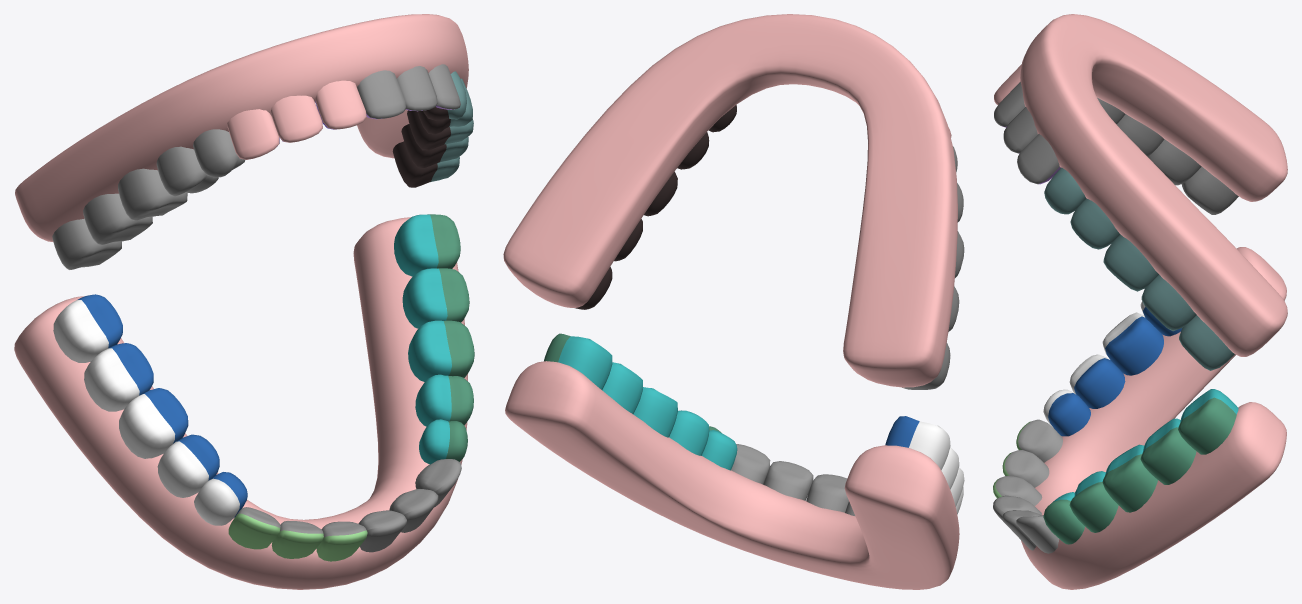
File: yaya.dae
The picture shows the model from 3 angles, left to right: view 1: azimuth 30°, elevation 25°; view 2: azimuth 150°, elevation 25°; view 3: azimuth 270°, elevation 25°; orthographic projection. The views are drawn at different scales.
Parts seen in each view (by area): view 1: FBXASC0497, FBXASC0488, FBXASC0496, FBXASC0485, FBXASC0482, FBXASC0490, FBXASC0487, FBXASC0495, FBXASC0481, FBXASC0493, FBXASC0486, FBXASC0494 (+3 smaller); view 2: FBXASC0497, FBXASC0485, FBXASC0486, FBXASC0493, FBXASC0488, FBXASC0496, FBXASC0487; view 3: FBXASC0497, FBXASC0490, FBXASC0494, FBXASC0487, FBXASC0491, FBXASC0483, FBXASC0495, FBXASC0485, FBXASC0489, FBXASC0488, FBXASC0486, FBXASC0482.
Boxes of the visible parts, left/top/right/bottom form: FBXASC0497: left=14, top=14, right=468, bottom=589; FBXASC0488: left=53, top=300, right=239, bottom=525; FBXASC0496: left=52, top=129, right=238, bottom=269; FBXASC0485: left=394, top=214, right=451, bottom=464; FBXASC0482: left=227, top=80, right=366, bottom=159; FBXASC0490: left=427, top=214, right=474, bottom=461; FBXASC0487: left=77, top=294, right=247, bottom=518; FBXASC0495: left=357, top=64, right=460, bottom=118; FBXASC0481: left=228, top=513, right=367, bottom=561; FBXASC0493: left=392, top=107, right=450, bottom=187; FBXASC0486: left=358, top=459, right=457, bottom=530; FBXASC0494: left=430, top=71, right=473, bottom=182; FBXASC0497: left=503, top=14, right=959, bottom=589; FBXASC0485: left=558, top=336, right=737, bottom=470; FBXASC0486: left=731, top=444, right=848, bottom=512; FBXASC0493: left=575, top=105, right=736, bottom=309; FBXASC0488: left=909, top=421, right=964, bottom=514; FBXASC0496: left=914, top=146, right=964, bottom=389; FBXASC0487: left=885, top=416, right=919, bottom=447; FBXASC0497: left=1020, top=14, right=1287, bottom=589; FBXASC0490: left=1043, top=397, right=1236, bottom=544; FBXASC0494: left=1044, top=167, right=1234, bottom=370; FBXASC0487: left=1048, top=307, right=1182, bottom=436; FBXASC0491: left=1097, top=97, right=1238, bottom=214; FBXASC0483: left=995, top=419, right=1062, bottom=506; FBXASC0495: left=994, top=82, right=1059, bottom=184; FBXASC0485: left=1052, top=389, right=1238, bottom=502; FBXASC0489: left=993, top=499, right=1059, bottom=553; FBXASC0488: left=1043, top=301, right=1145, bottom=427; FBXASC0486: left=995, top=495, right=1045, bottom=523; FBXASC0482: left=994, top=64, right=1021, bottom=104.
Bounding box in the file's own units: 6.98 × 8.68 × 4.42.
